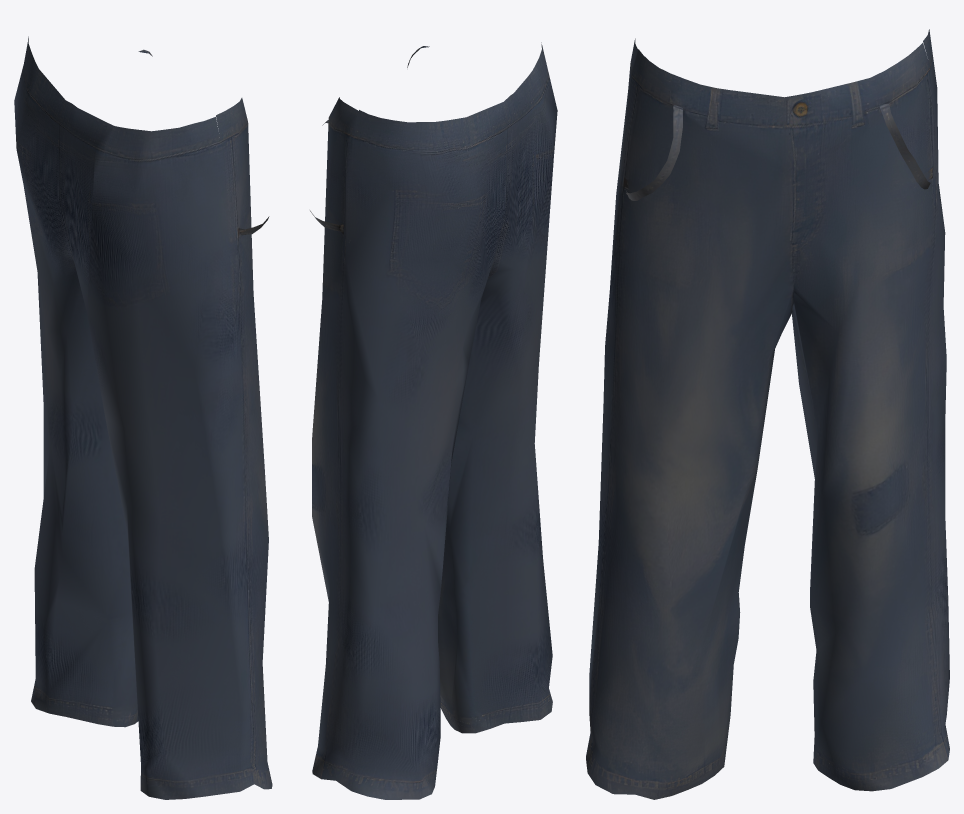
The picture shows the model from 3 angles, left to right: view 1: azimuth 30°, elevation 25°; view 2: azimuth 150°, elevation 25°; view 3: azimuth 270°, elevation 25°; orthographic projection. The views are drawn at different scales.
Visible parts, largest first — view 1: tripo_node_d40c3e76-2979-4fc3-901a-58f27368630c; view 2: tripo_node_d40c3e76-2979-4fc3-901a-58f27368630c; view 3: tripo_node_d40c3e76-2979-4fc3-901a-58f27368630c.
Part boxes in pixels (box(x1,y1,x2,y2)): tripo_node_d40c3e76-2979-4fc3-901a-58f27368630c: box(14, 36, 272, 799); tripo_node_d40c3e76-2979-4fc3-901a-58f27368630c: box(310, 42, 557, 799); tripo_node_d40c3e76-2979-4fc3-901a-58f27368630c: box(586, 29, 949, 799).
Bounding box in the file's own units: 0.248 × 0.998 × 0.4473.
1 material, 1 textured.
